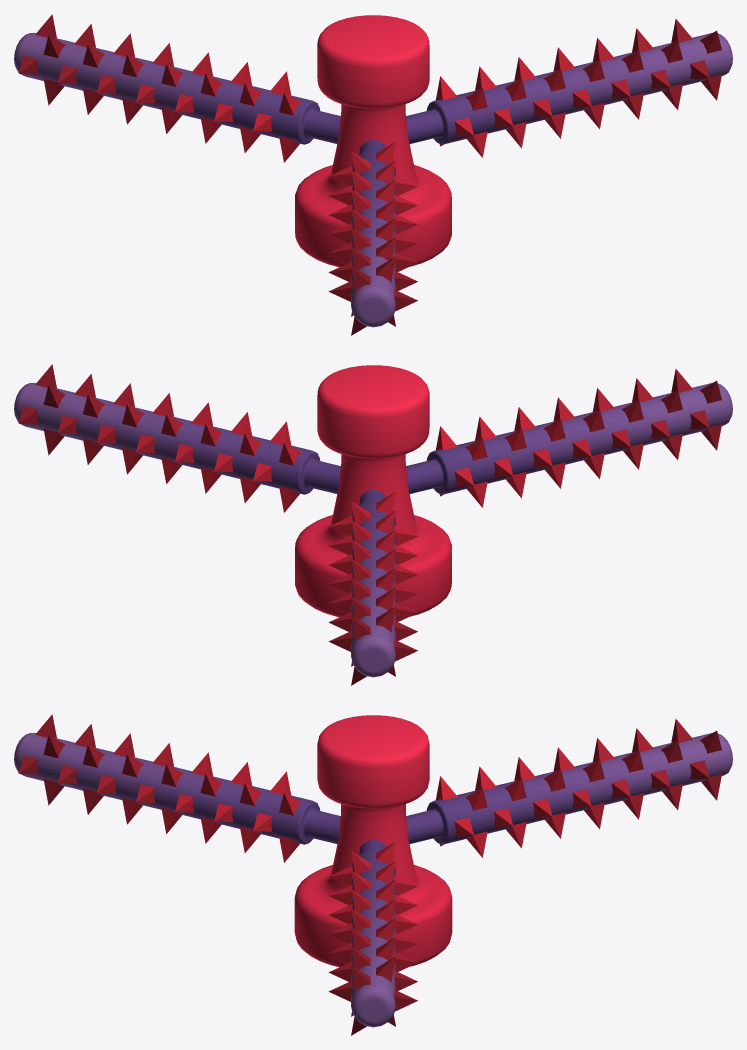
Rendered from Obs_04.fbx.
3 renders of one model, top to bottom at view 1: azimuth 30°, elevation 25°; view 2: azimuth 150°, elevation 25°; view 3: azimuth 270°, elevation 25°, orthographic.
Visible parts, largest first — view 1: Obs_04_Column_01, Obs_04_Column, Obs_04_Main; view 2: Obs_04_Column_01, Obs_04_Column, Obs_04_Main; view 3: Obs_04_Column_01, Obs_04_Column, Obs_04_Main.
Boxes of the visible parts, box(x1,y1,x2,y2) form: Obs_04_Column_01: box(14, 33, 732, 327); Obs_04_Column: box(19, 14, 721, 335); Obs_04_Main: box(295, 15, 451, 267); Obs_04_Column_01: box(14, 383, 732, 677); Obs_04_Column: box(19, 364, 721, 685); Obs_04_Main: box(295, 365, 451, 617); Obs_04_Column_01: box(14, 733, 732, 1027); Obs_04_Column: box(19, 714, 721, 1035); Obs_04_Main: box(294, 715, 452, 967).
Size of the model in its own units: 2.23 by 0.7899 by 2.52.
